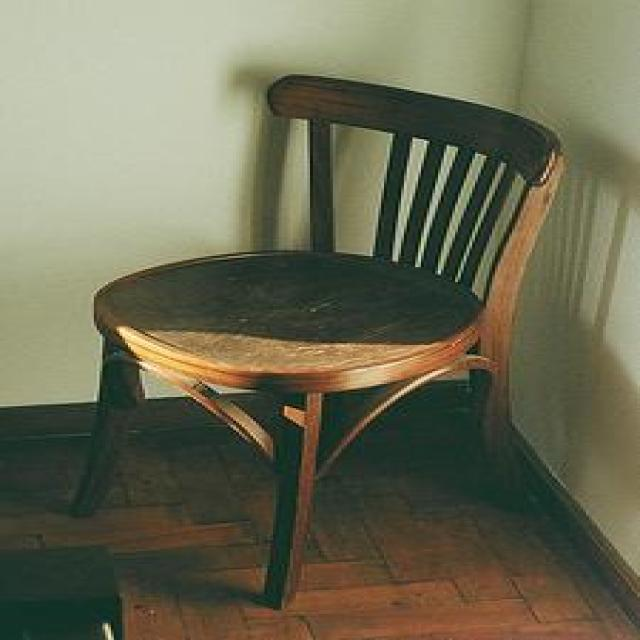chair: (68, 72, 566, 608)
